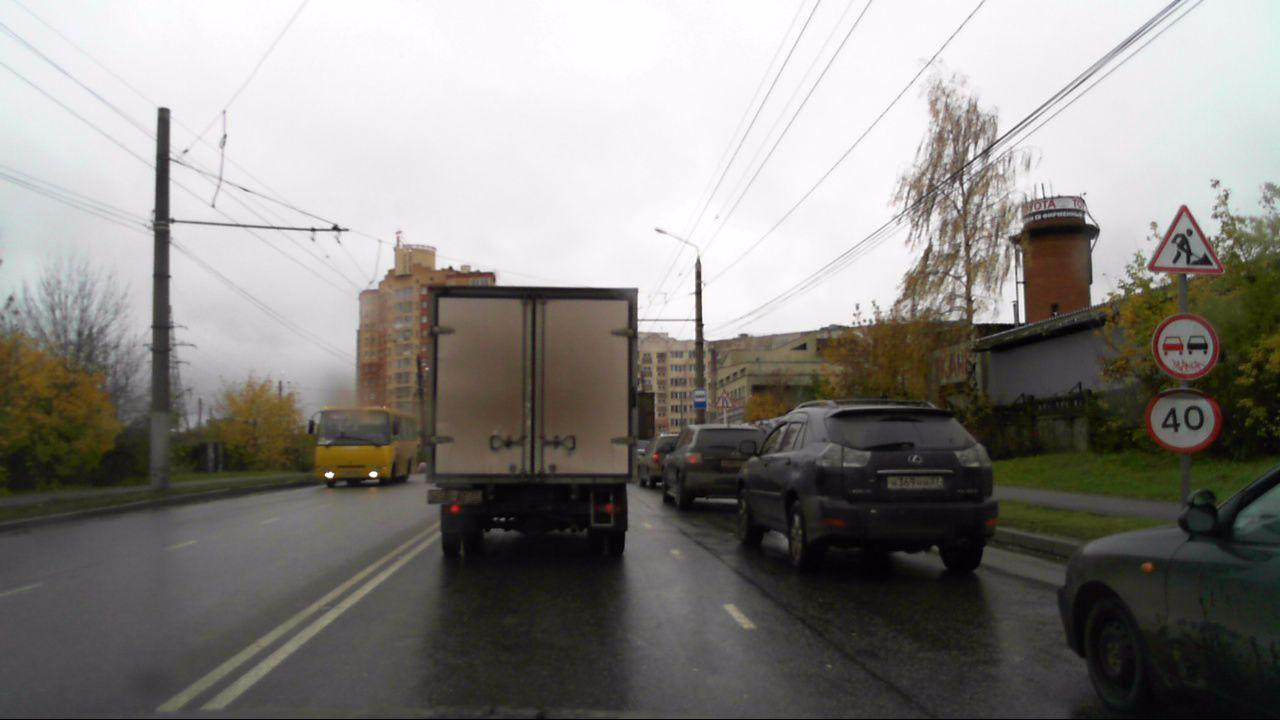road_sign: (1147, 204, 1227, 274), (1145, 387, 1221, 453), (1152, 314, 1220, 380)
